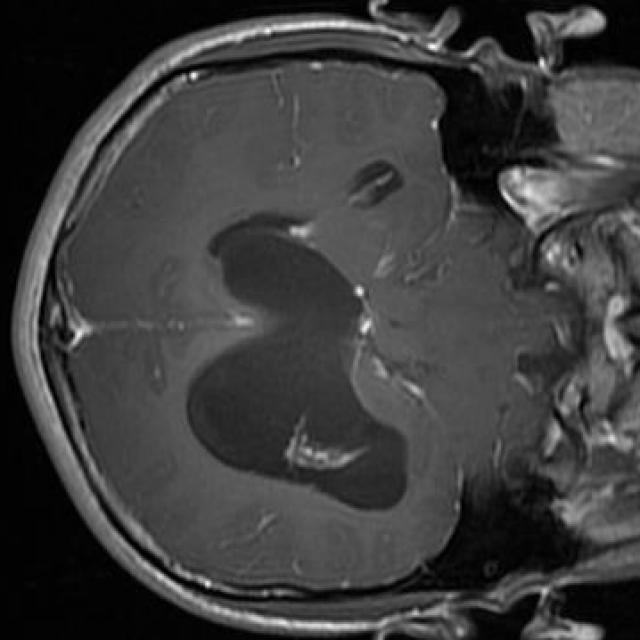glioma: (187, 228, 408, 510)
